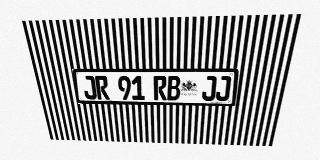1: (131, 76, 145, 100)
9: (117, 76, 132, 100)
B: (167, 76, 180, 100)
J: (201, 76, 217, 101), (215, 76, 231, 101), (82, 76, 97, 99)
R: (94, 76, 110, 100), (153, 76, 167, 100)
